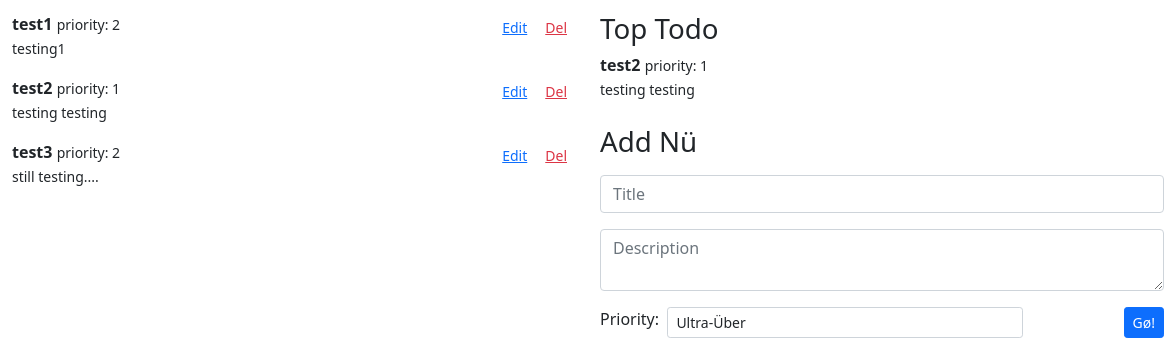
Test case: TodoApp component › edits a todo on form
The image size is (1176, 355).
Click the button with class "EditableTodo-toggle" in the row of "testing1". click: [515, 28]
box: [493, 12, 536, 43]
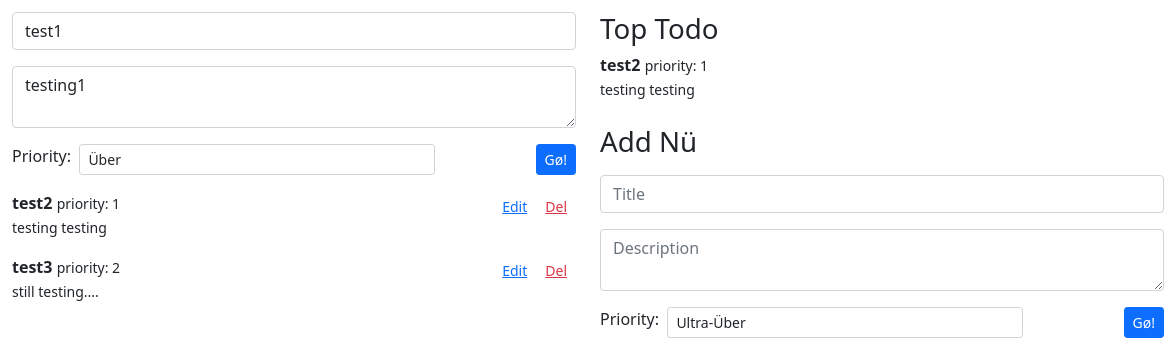
Replace the text in the field with id "newTodo-title" with "testTitle". click: [294, 31]
box: [12, 12, 576, 50]
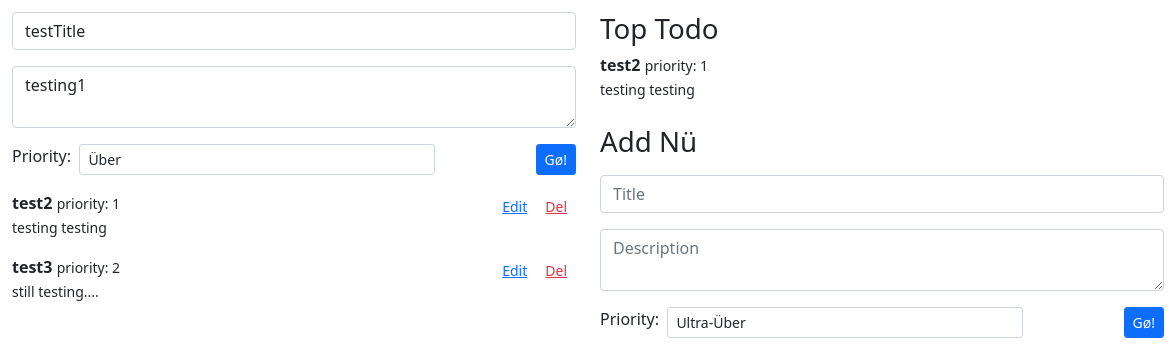
Replace the text in the text box with id "newTodo-description" with "testDesc". click: [294, 97]
box: [12, 66, 576, 128]
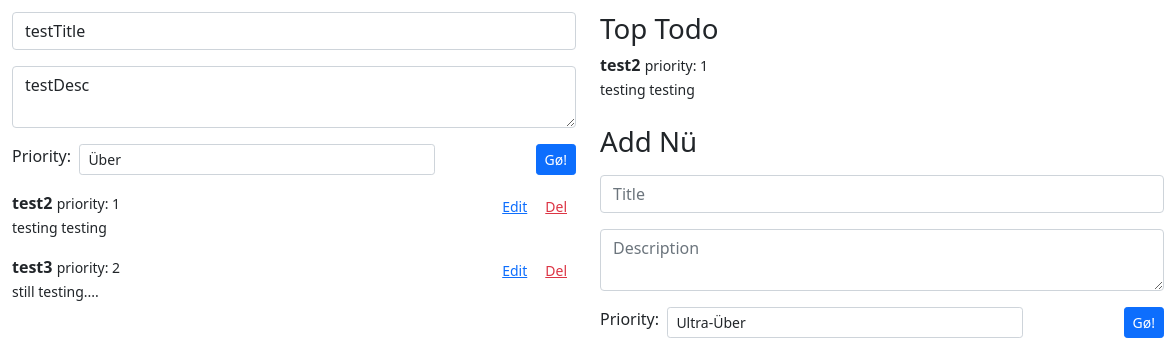
Select "Über" in the dropdown labelled "Priority:". click: [257, 160]
box: [79, 144, 435, 175]
Click the 1st button "Gø!". click: [556, 160]
box: [536, 144, 576, 175]
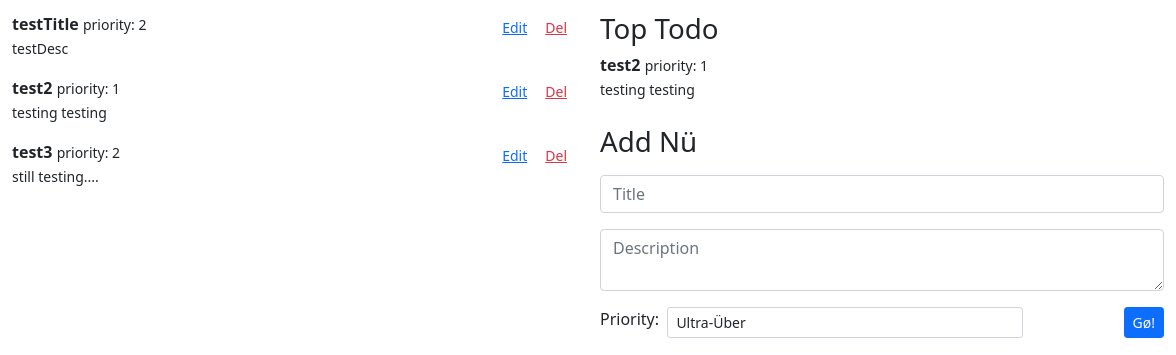
Expected: the text "testTitle" is shown, [12, 13, 79, 35]
Expected: the text "testDesc" is shown, [12, 39, 68, 58]
